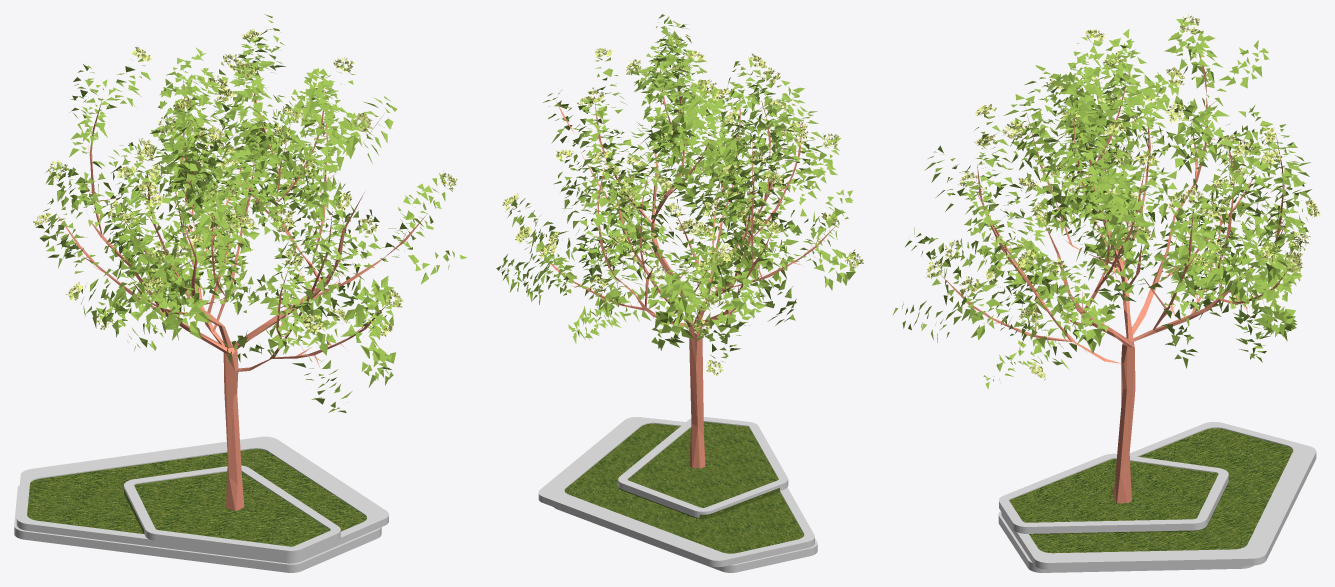
File: tree.gltf
The picture shows the model from 3 angles, left to right: view 1: azimuth 30°, elevation 25°; view 2: azimuth 150°, elevation 25°; view 3: azimuth 270°, elevation 25°; orthographic projection. The views are drawn at different scales.
Parts seen in each view (by area): view 1: 花坛_绿植19; view 2: 花坛_绿植19; view 3: 花坛_绿植19.
Boxes of the visible parts, x1,y1,x2,y2 form: 花坛_绿植19: [14, 14, 467, 572]; 花坛_绿植19: [496, 14, 863, 572]; 花坛_绿植19: [892, 14, 1320, 572].
Bounding box in the file's own units: 5.18 × 7.14 × 5.45.
6 materials, 1 textured.
